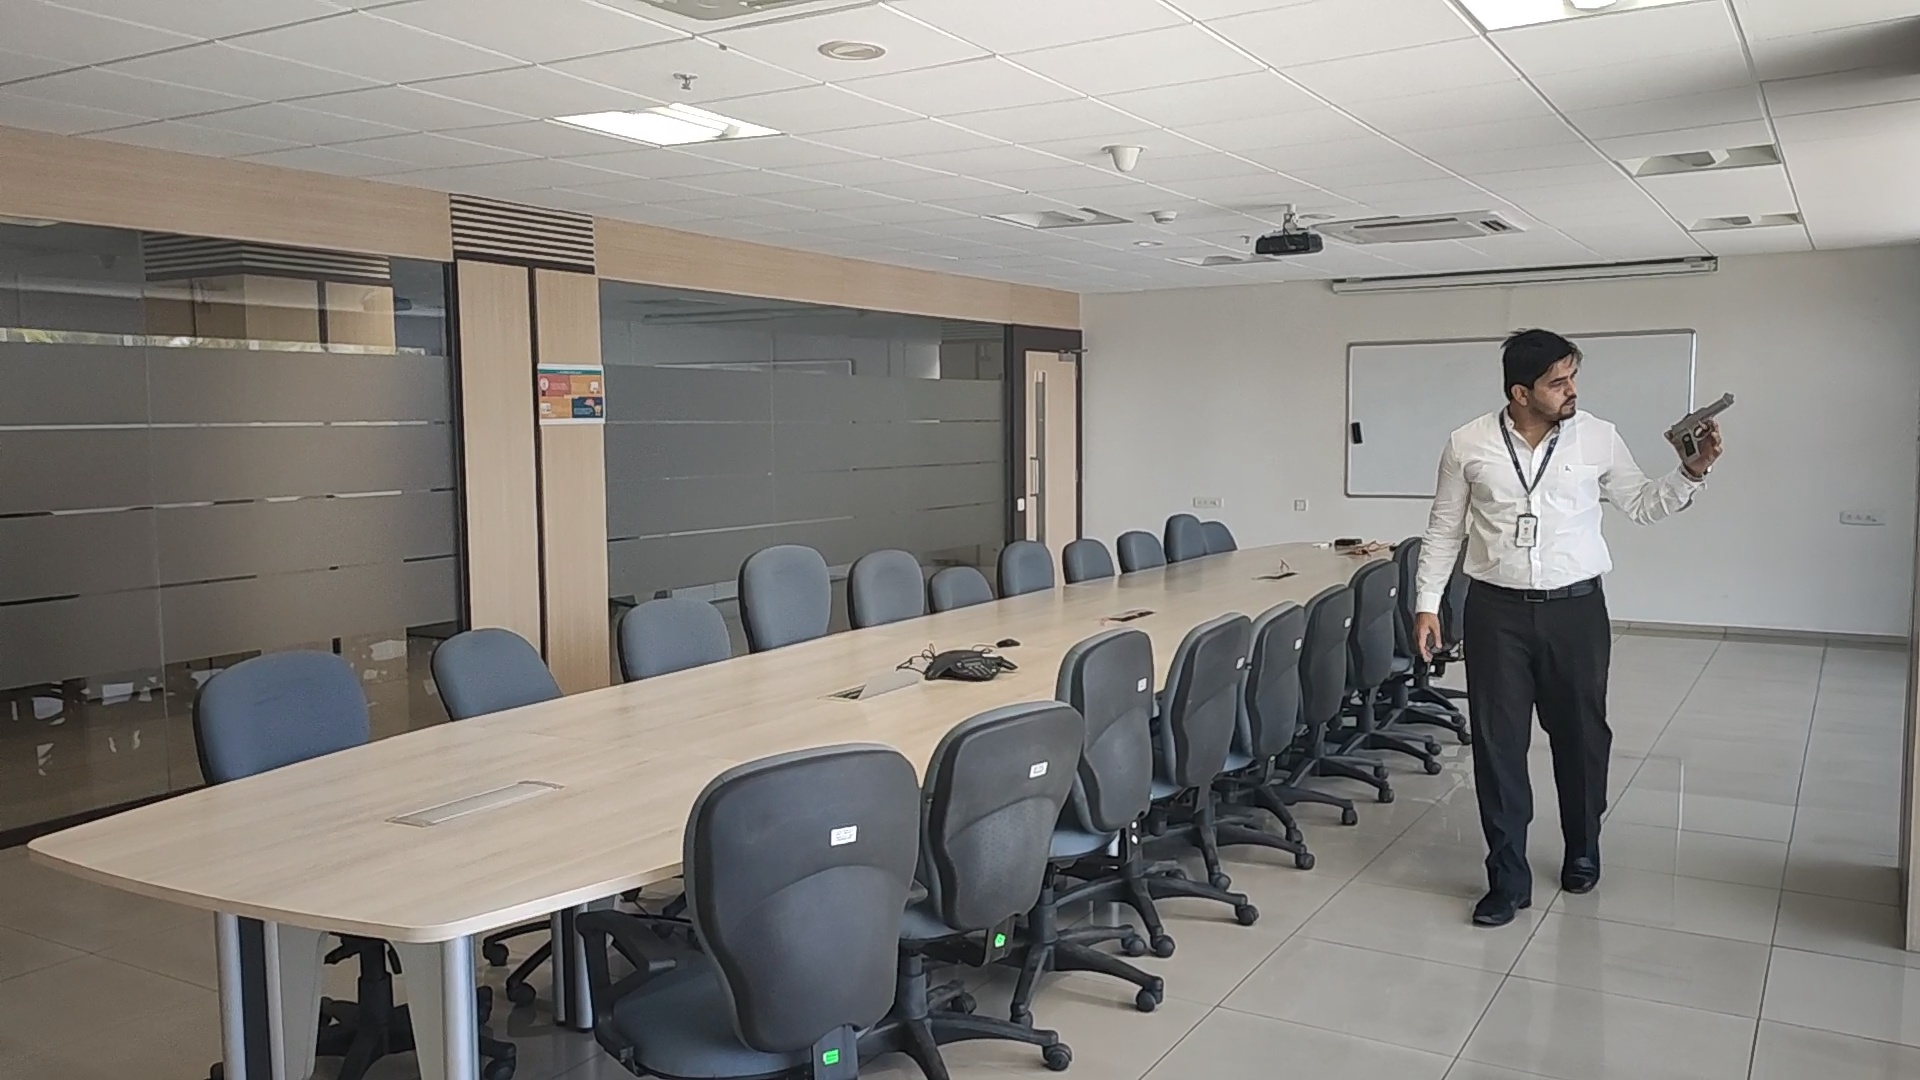gun: (1668, 392, 1735, 439)
